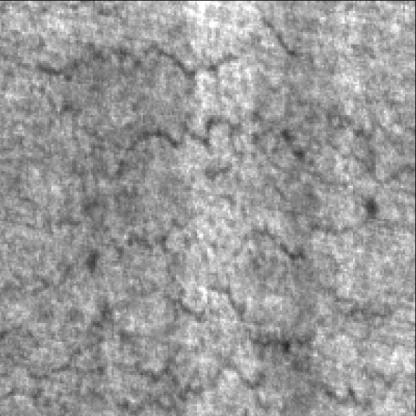crazing: (0, 44, 256, 262), (2, 270, 391, 412), (198, 92, 410, 262)
